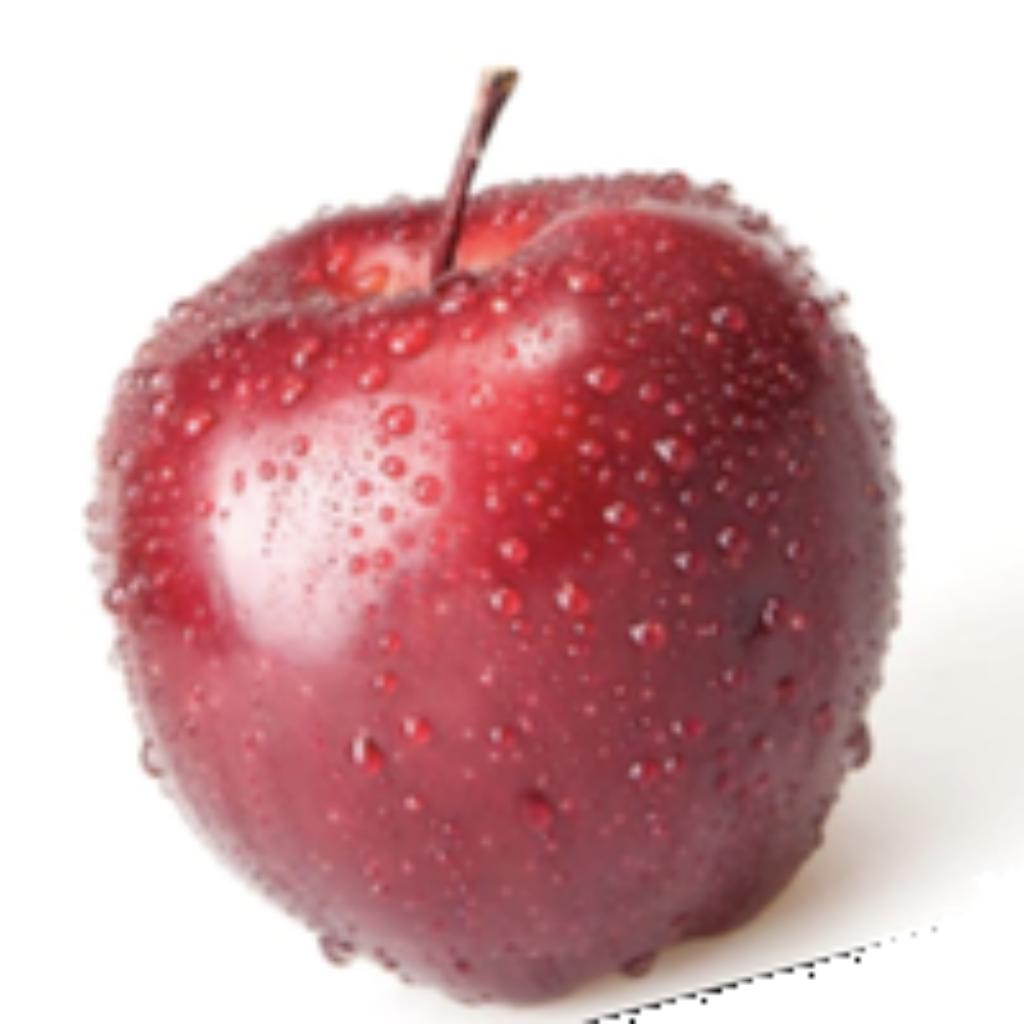apple: (77, 57, 1013, 1019)
